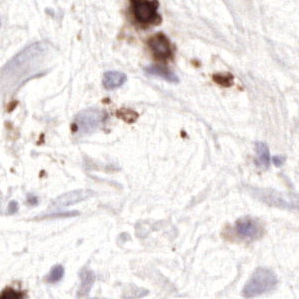Lymphocyte: (149, 32, 177, 64)
